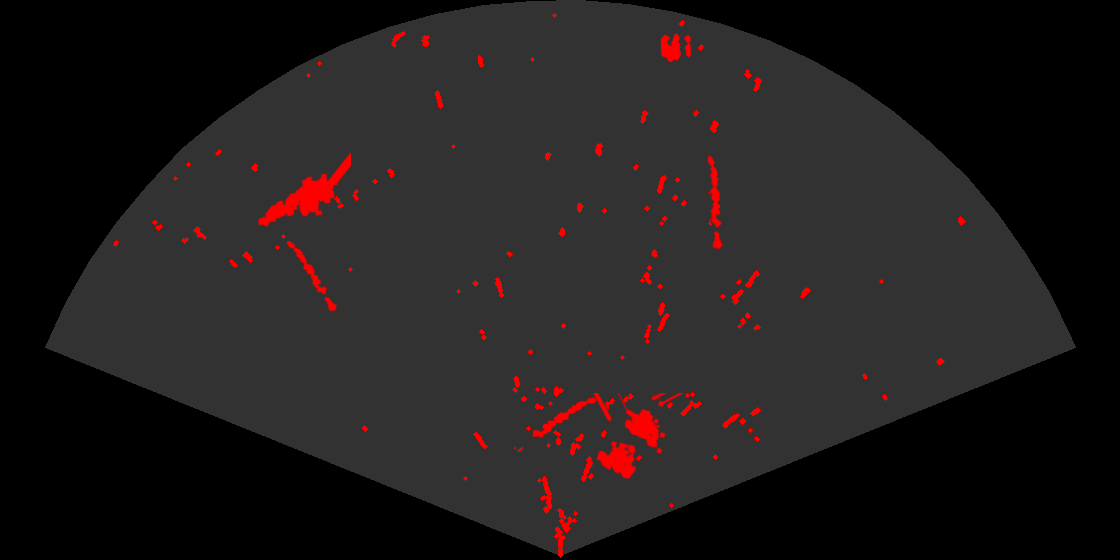ball: (659, 32, 692, 64)
cage: (591, 393, 685, 480)
chain: (512, 396, 599, 454), (285, 239, 341, 317), (705, 154, 725, 249)
frogman: (256, 153, 351, 228)
